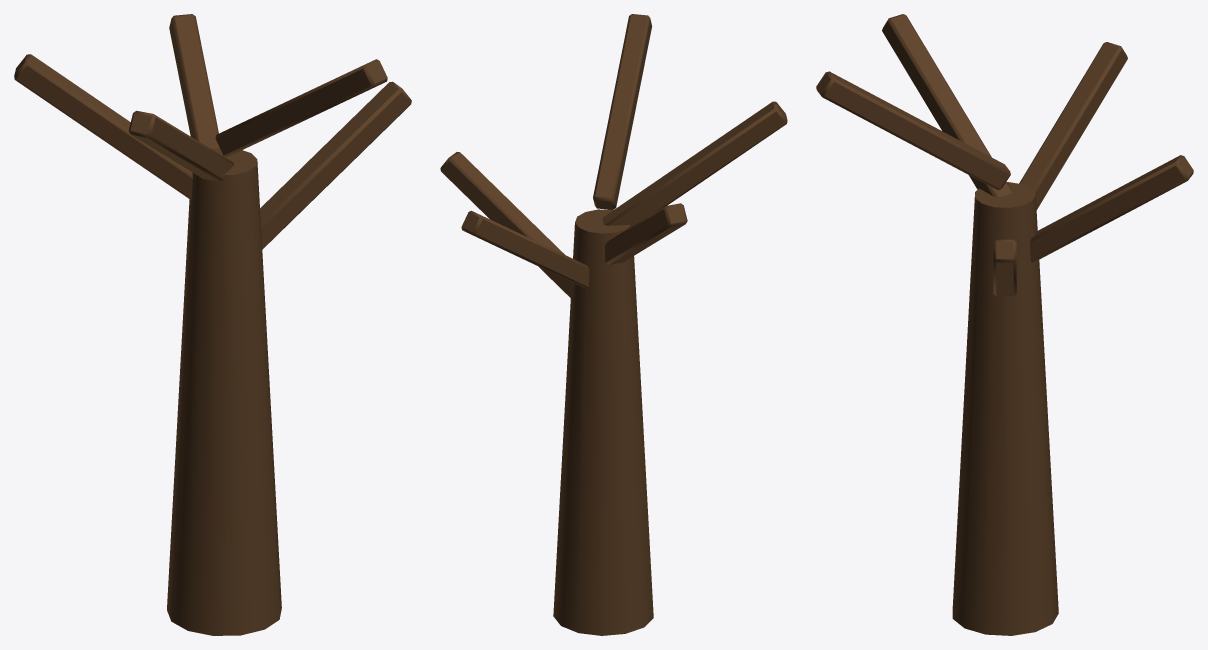
The model's file is oakbare.glb.
The picture shows the model from 3 angles, left to right: view 1: azimuth 30°, elevation 25°; view 2: azimuth 150°, elevation 25°; view 3: azimuth 270°, elevation 25°; orthographic projection. The views are drawn at different scales.
Parts seen in each view (by area): view 1: tree; view 2: tree; view 3: tree.
Boxes of the visible parts, x1,y1,x2,y2 form: tree: [14, 14, 411, 635]; tree: [440, 14, 787, 635]; tree: [816, 14, 1193, 635].
Bounding box in the file's own units: 0.9339 × 1.61 × 0.9819.
